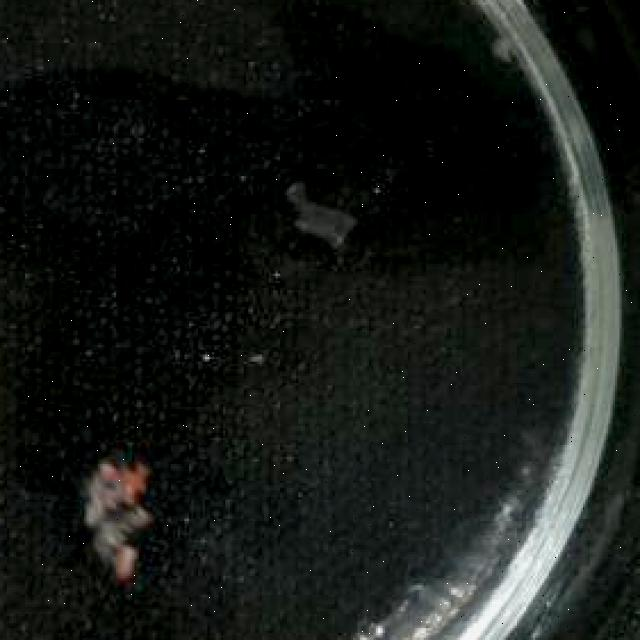Microplastic: (59, 459, 155, 578)
